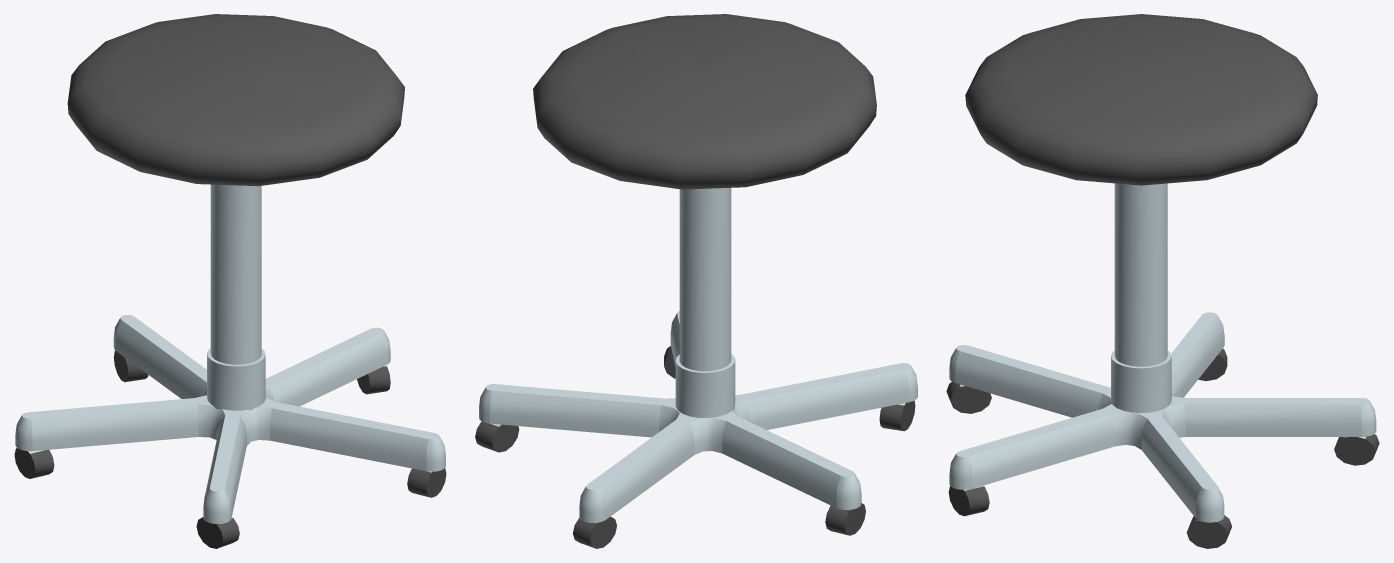
Rendered from sh-contrib-stool.glb.
3 renders of one model, left to right at view 1: azimuth 30°, elevation 25°; view 2: azimuth 150°, elevation 25°; view 3: azimuth 270°, elevation 25°, orthographic.
Parts seen in each view (by area): view 1: Stool_Object01870_2, Stool_Object01_1, Stool_Object011048_3; view 2: Stool_Object01870_2, Stool_Object01_1, Stool_Object011048_3; view 3: Stool_Object01870_2, Stool_Object01_1, Stool_Object011048_3.
Part boxes in pixels (<box>): Stool_Object01870_2: <box>67,14,404,186</box>; Stool_Object01_1: <box>15,184,445,523</box>; Stool_Object011048_3: <box>14,350,446,548</box>; Stool_Object01870_2: <box>533,14,876,189</box>; Stool_Object01_1: <box>479,188,917,523</box>; Stool_Object011048_3: <box>475,346,915,548</box>; Stool_Object01870_2: <box>965,14,1317,185</box>; Stool_Object01_1: <box>949,183,1376,522</box>; Stool_Object011048_3: <box>946,349,1379,548</box>.
Bounding box in the file's own units: 1 × 1 × 1.
